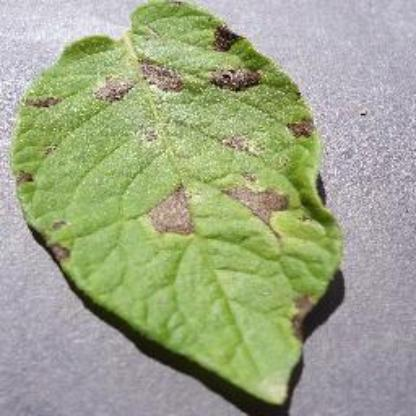Early-Blight: (14, 2, 366, 410)
